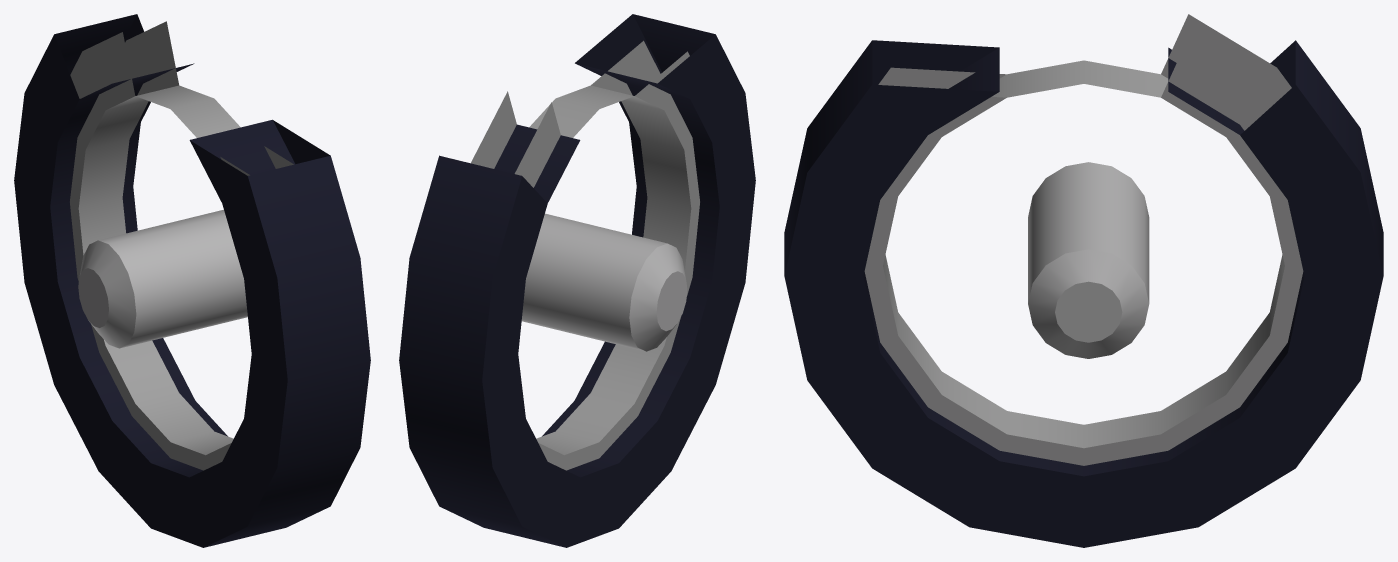
File: wheelR.glb
The picture shows the model from 3 angles, left to right: view 1: azimuth 30°, elevation 25°; view 2: azimuth 150°, elevation 25°; view 3: azimuth 270°, elevation 25°; orthographic projection. The views are drawn at different scales.
Visible parts, largest first — view 1: Tyre.028_Texture_0; view 2: Tyre.028_Texture_0; view 3: Tyre.028_Texture_0.
Part boxes in pixels (x1,y1,x2,y2): Tyre.028_Texture_0: (14,14,370,547); Tyre.028_Texture_0: (399,14,755,547); Tyre.028_Texture_0: (784,14,1383,547).
Bounding box in the file's own units: 1.8 × 4.07 × 4.42.
Materials: 1 (1 with a texture image).
